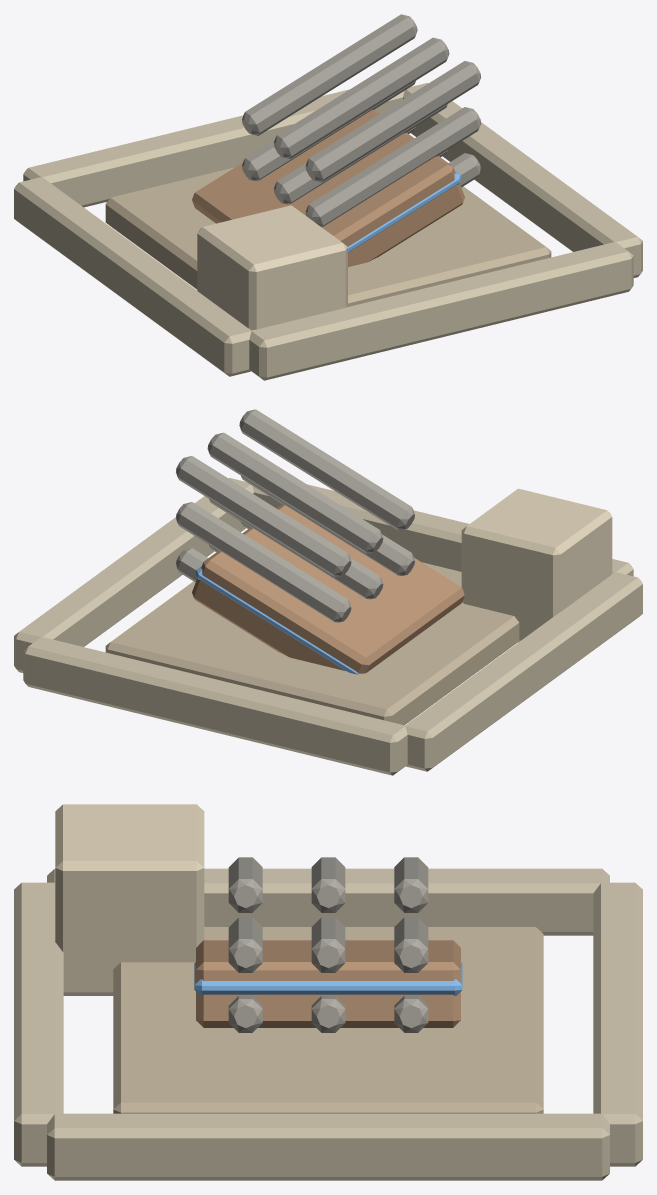
Rendered from launch_site.glb.
3 views of the same model, one above another, from view 1: azimuth 30°, elevation 25°; view 2: azimuth 150°, elevation 25°; view 3: azimuth 270°, elevation 25° (orthographic). The views are drawn at different scales.
Parts seen in each view (by area): view 1: launch_site; view 2: launch_site; view 3: launch_site.
Part boxes in pixels (x1=…): launch_site: x1=14, y1=14, x2=642, y2=380; launch_site: x1=14, y1=409, x2=642, y2=775; launch_site: x1=14, y1=804, x2=642, y2=1180.
Size of the model in its own units: 3.8 by 1.61 by 3.8.
